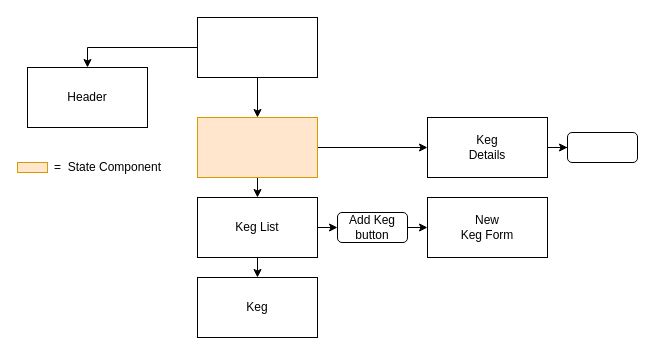
The diagram is 655 pixels wide and 355 high, and some of its shapes have lost their labels. Each missing label, with the centre of its shape:
App: (257,47)
Delete Keg: (602,147)
Keg Control: (257,147)
